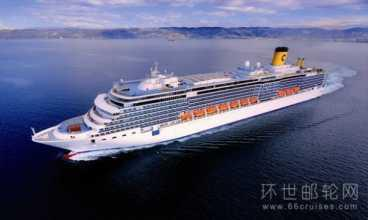youlun: (31, 41, 338, 155)
